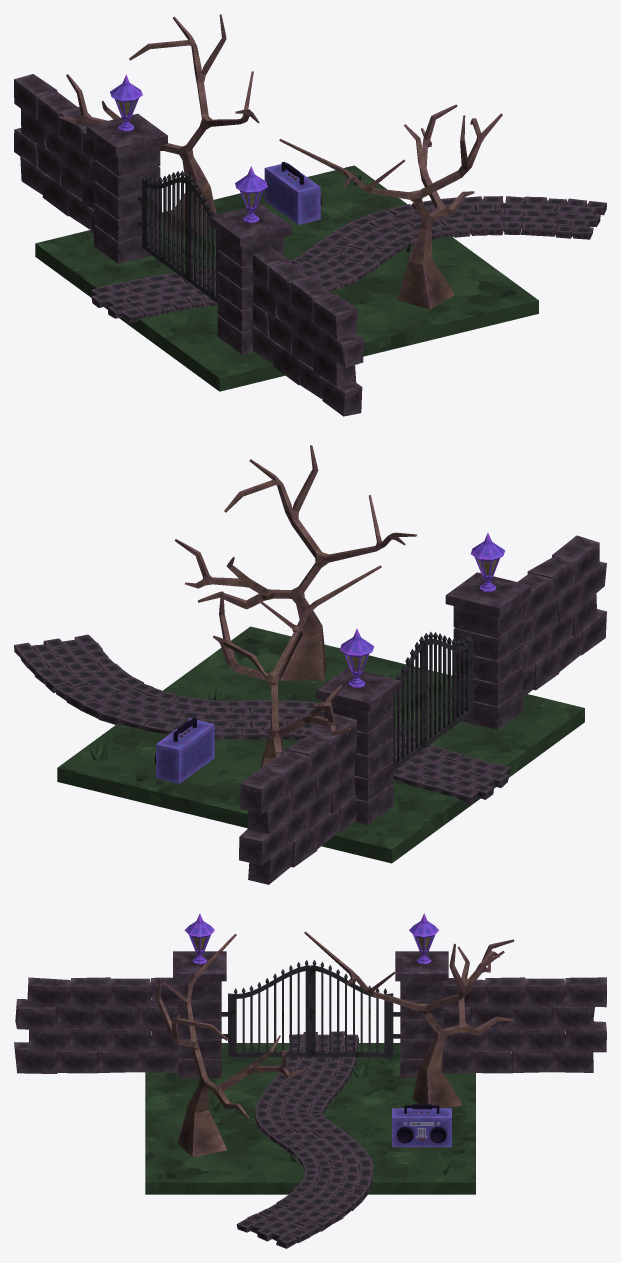
The model's file is escena_afueras.fbx.
The picture shows the model from 3 angles, top to bottom: view 1: azimuth 30°, elevation 25°; view 2: azimuth 150°, elevation 25°; view 3: azimuth 270°, elevation 25°; orthographic projection. The views are drawn at different scales.
Parts seen in each view (by area): view 1: grass, lp, muro_lp, muro_lp.001, columna2.001, tree1.001, puerta, columna2, tree1, base, farolillo2, farolillo2.001; view 2: grass, lp, muro_lp.001, muro_lp, columna2, tree1.001, puerta, columna2.001, tree1, base, farolillo2.001, farolillo2; view 3: grass, lp, muro_lp, muro_lp.001, puerta, tree1.001, tree1, columna2, columna2.001, base, farolillo2, farolillo2.001.
Part boxes in pixels (x1,y1,x2,y2): grass: (35, 165, 538, 391); lp: (89, 196, 606, 322); muro_lp: (251, 248, 363, 416); muro_lp.001: (14, 74, 94, 233); columna2.001: (86, 113, 167, 263); tree1.001: (279, 104, 502, 309); puerta: (138, 170, 218, 302); columna2: (210, 204, 291, 354); tree1: (59, 14, 259, 237); base: (264, 162, 320, 224); farolillo2: (235, 166, 267, 222); farolillo2.001: (110, 74, 142, 131); grass: (57, 626, 584, 863); lp: (14, 634, 510, 804); muro_lp.001: (239, 713, 357, 884); muro_lp: (517, 535, 606, 697); columna2: (445, 572, 531, 729); tree1.001: (175, 445, 416, 680); puerta: (392, 632, 476, 770); columna2.001: (316, 667, 401, 824); tree1: (213, 565, 381, 768); base: (156, 718, 214, 783); farolillo2.001: (340, 628, 374, 687); farolillo2: (471, 533, 505, 591); grass: (145, 1043, 475, 1194); lp: (236, 1031, 373, 1248); muro_lp: (14, 977, 177, 1073); muro_lp.001: (443, 977, 606, 1073); puerta: (221, 960, 400, 1057); tree1.001: (155, 934, 305, 1157); tree1: (304, 931, 514, 1108); columna2: (173, 951, 226, 1078); columna2.001: (395, 951, 448, 1078); base: (392, 1108, 451, 1147); farolillo2: (184, 913, 214, 964); farolillo2.001: (409, 913, 439, 964).
Size of the model in its own units: 605 by 249 by 717.
Materials: 12 (12 with a texture image).
